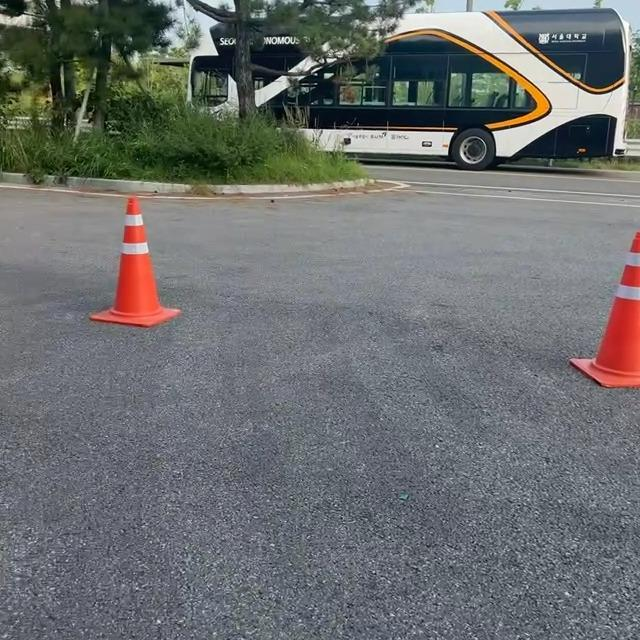fallen_object: (89, 165, 256, 425), (484, 211, 640, 401)
